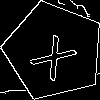X: (29, 26, 85, 83)
